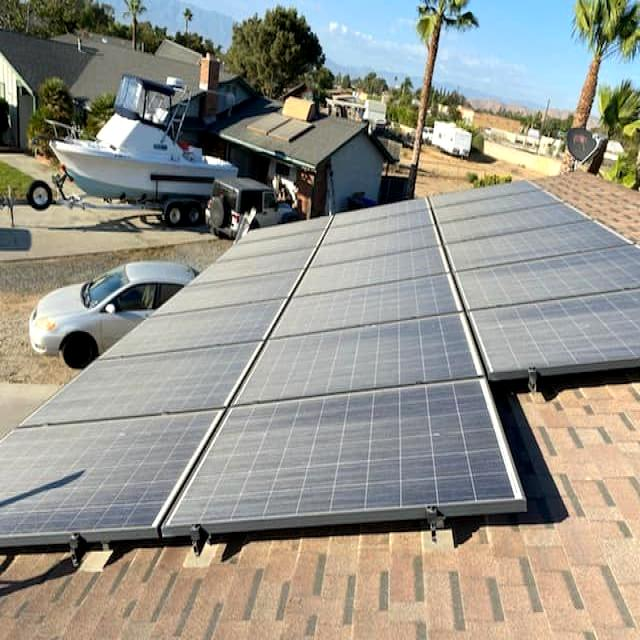dust: (240, 394, 470, 498), (7, 429, 224, 507), (493, 244, 622, 359), (264, 330, 468, 371), (303, 266, 443, 307), (88, 357, 224, 399), (442, 186, 520, 252), (332, 217, 436, 252), (150, 314, 262, 338), (242, 230, 298, 266), (190, 282, 298, 298)
